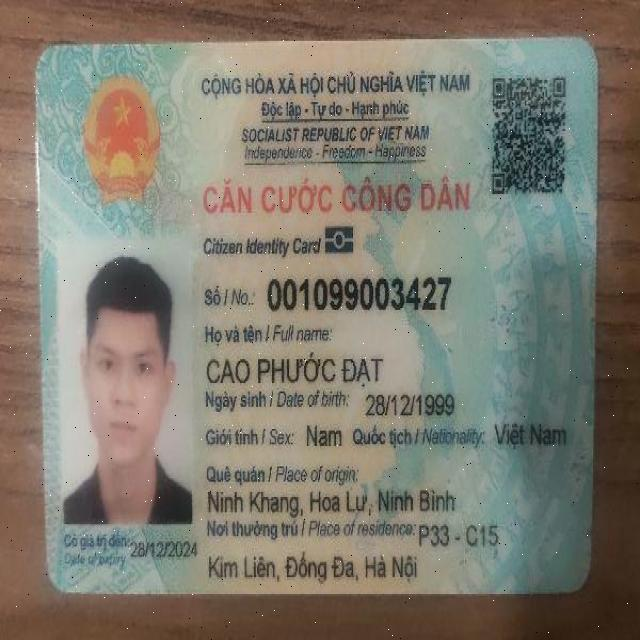current_place: (205, 551, 421, 585), (415, 517, 499, 553)
dob: (361, 387, 456, 421)
expire_date: (129, 537, 199, 561)
gender: (305, 424, 345, 448)
id: (261, 271, 450, 317)
name: (205, 351, 387, 393)
nationality: (490, 418, 569, 452)
origin_place: (204, 483, 457, 516)
